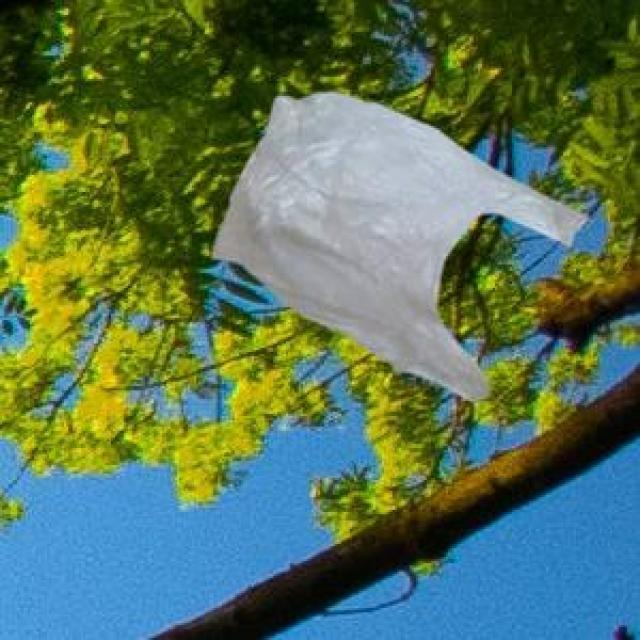Bolsa-de-plastico: (218, 93, 586, 405)
